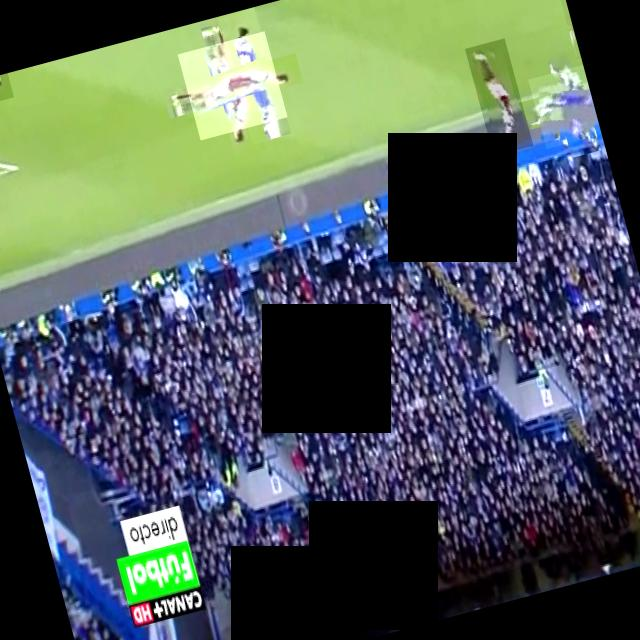soccer-player: (177, 30, 287, 140), (218, 6, 290, 145), (465, 38, 533, 156), (528, 64, 602, 148), (547, 0, 580, 58), (0, 72, 14, 110)
